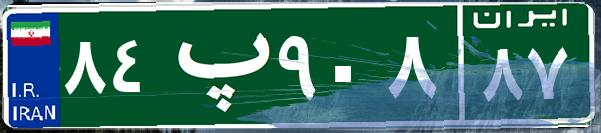0: (330, 28, 385, 110)
4: (110, 28, 158, 105)
7: (525, 38, 570, 115)
8: (385, 28, 445, 110), (57, 26, 110, 107), (475, 38, 525, 113)
9: (273, 28, 330, 110)
پ: (158, 15, 273, 115)
